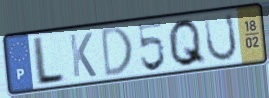5: (137, 19, 168, 74)
D: (99, 24, 134, 80)
K: (67, 31, 98, 79)
L: (33, 34, 67, 88)
Q: (166, 17, 208, 69)
U: (202, 11, 239, 64)
